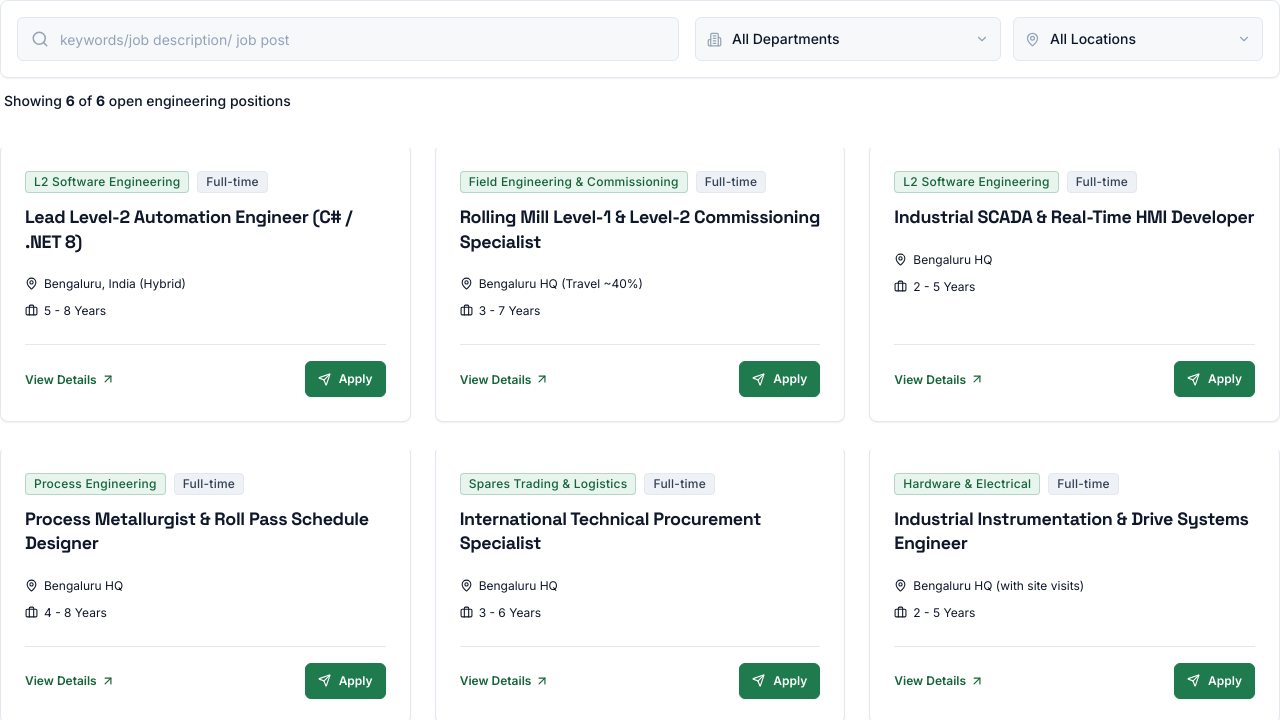
it: CareerPortal Component › clears search query and restores full list when clear button is clicked
Type "Metallurgist" into the field with placeholder "keywords/job description/ job post" at {"x": 348, "y": 39}, box [17, 17, 679, 61]
Wait 350 ms
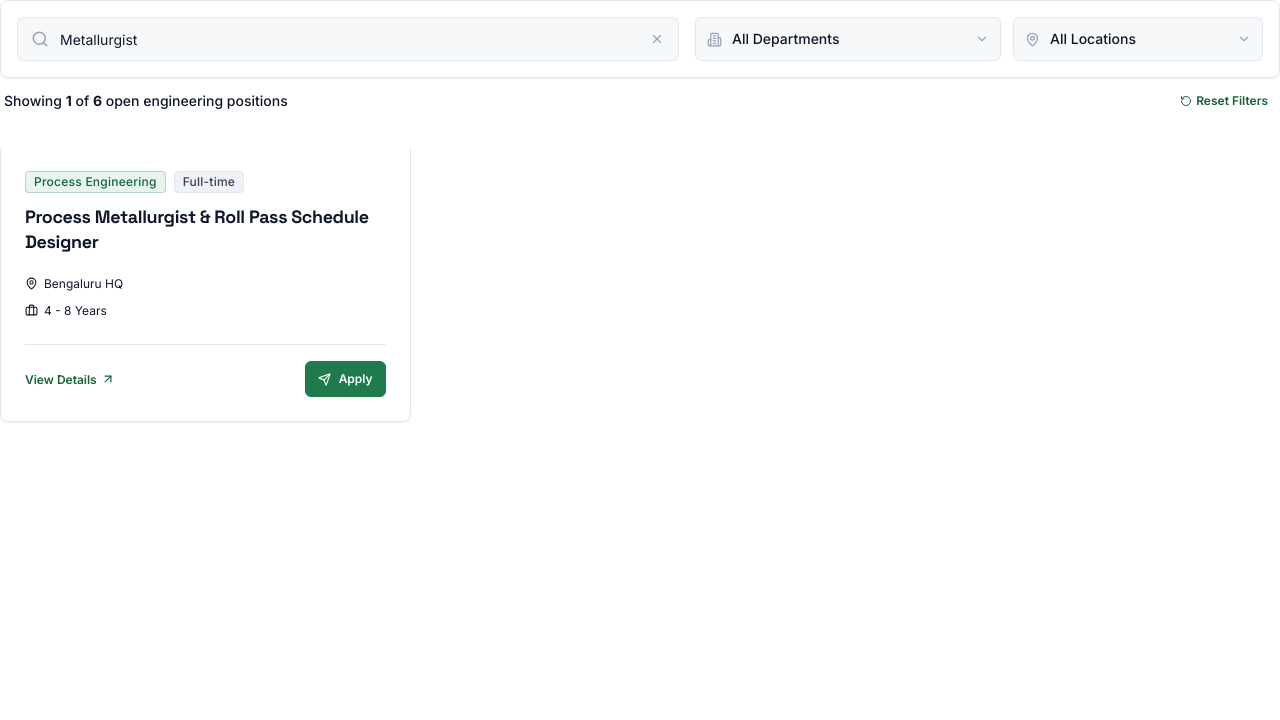
Result: the button named "clear search" is shown
Click the button named "clear search" at {"x": 657, "y": 39}, box [645, 27, 669, 51]
Wait 350 ms
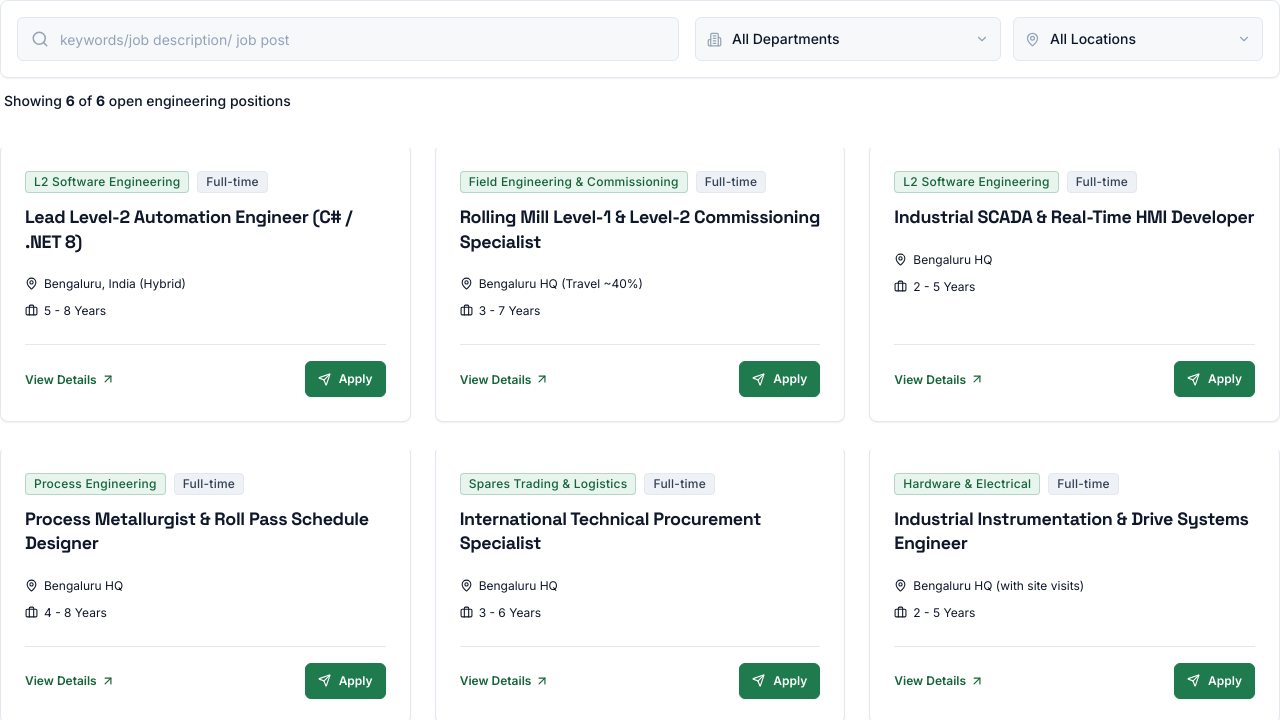
Result: the field with placeholder "keywords/job description/ job post" is empty at [17, 17, 679, 61]
